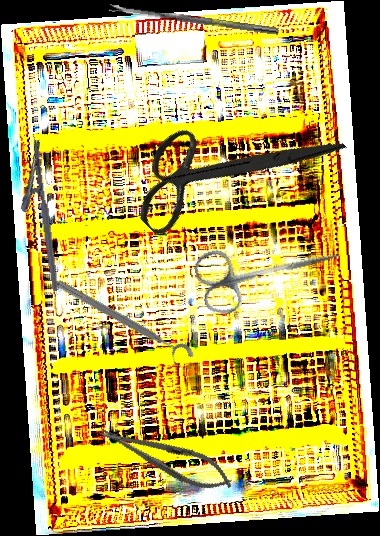Fixation Ring: (49, 276, 197, 372)
Iris Scissors: (112, 52, 349, 289), (191, 220, 349, 320)
Needle Holder: (93, 413, 239, 501), (12, 139, 60, 294)
Surgical Spoon: (109, 3, 279, 35)
